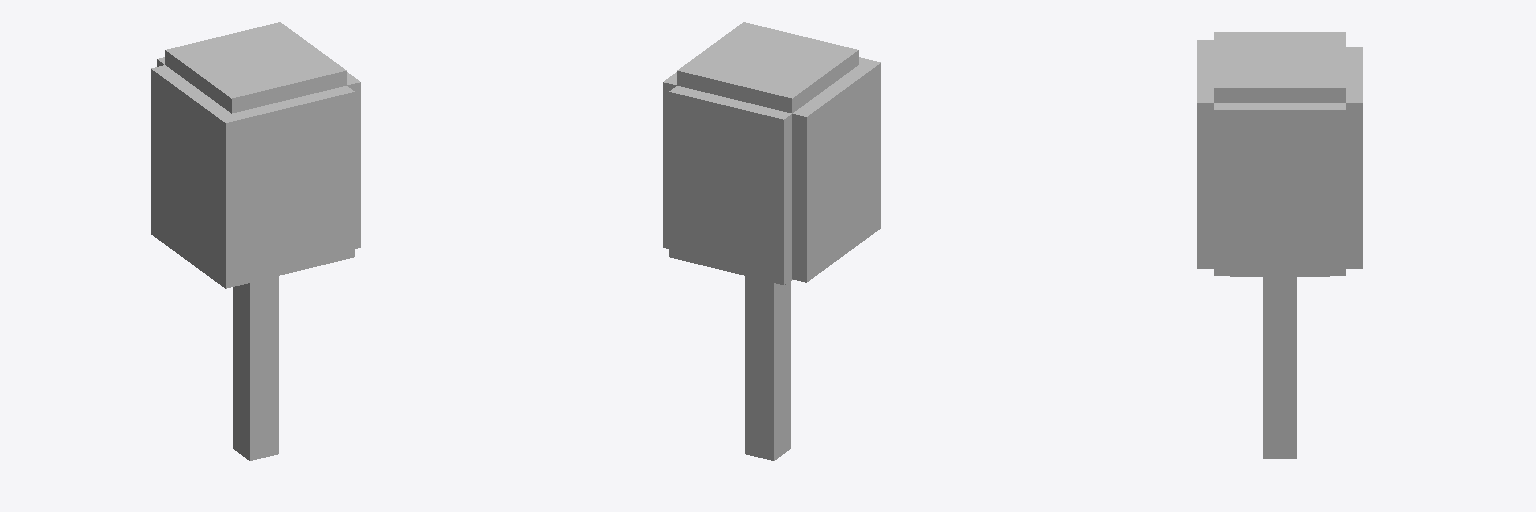
File: Tree.obj
The picture shows the model from 3 angles: view 1: azimuth 30°, elevation 25°; view 2: azimuth 150°, elevation 25°; view 3: azimuth 270°, elevation 25°; orthographic projection.
Visible parts, largest first — view 1: object 1; view 2: object 1; view 3: object 1.
Part boxes in pixels (left/top/right/bottom): object 1: left=151, top=22, right=360, bottom=460; object 1: left=663, top=22, right=880, bottom=460; object 1: left=1197, top=32, right=1362, bottom=458.
Bounding box in the file's own units: 1 × 2.6 × 1.